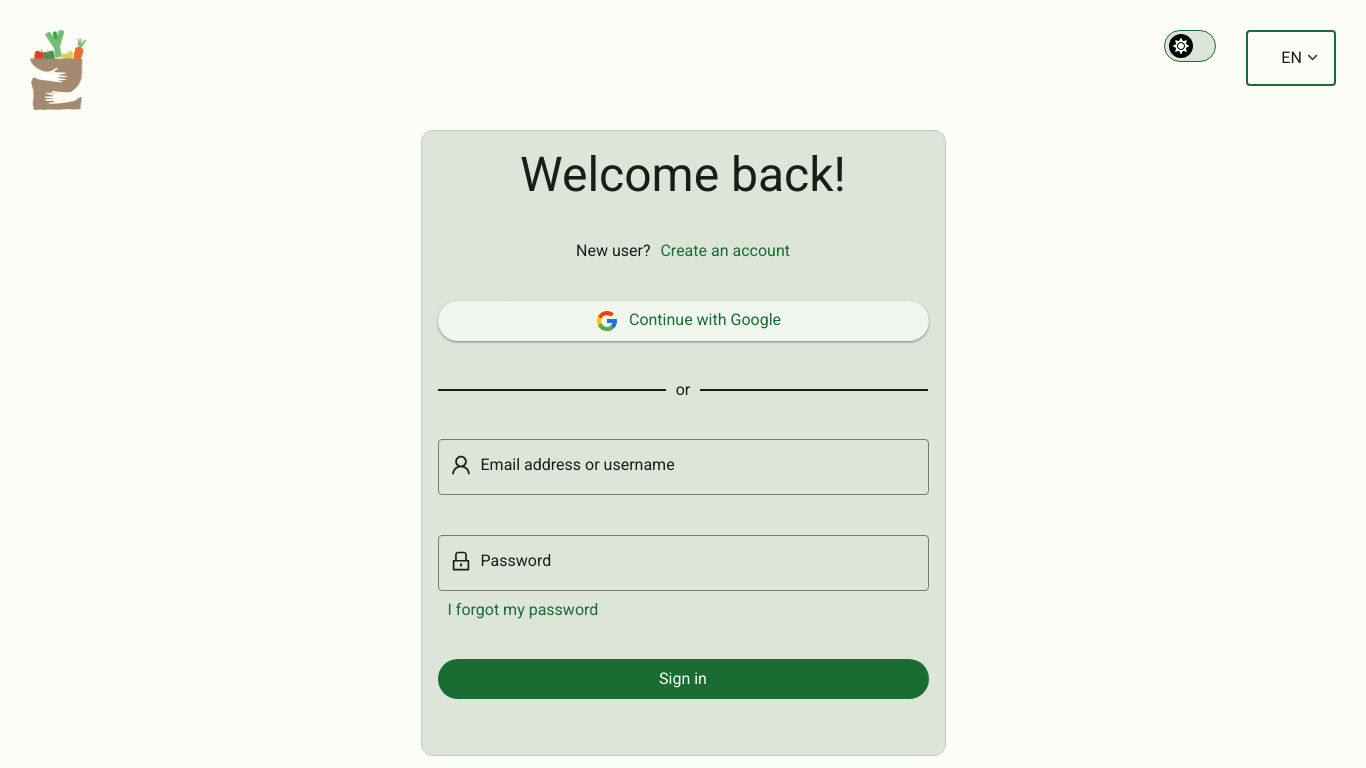
Test case: warns the user of invalid input
expect the text "New user?" is shown: met, box [576, 242, 650, 261]
Type "testWrongEmail" into the 1st field with test id "input" at (700, 467), box [472, 440, 928, 494]
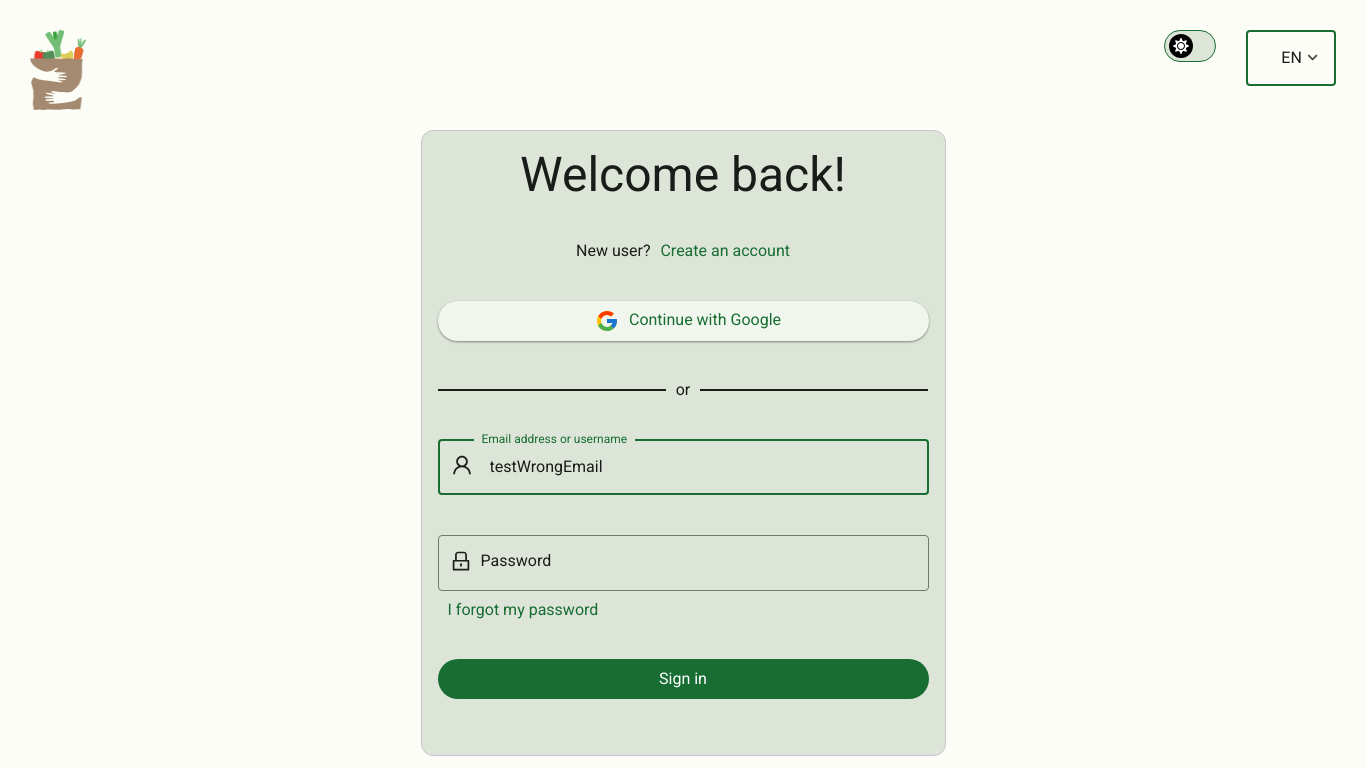
Type "testWrongPassword" into the 2nd password field with test id "input" at (700, 563), box [472, 536, 928, 590]
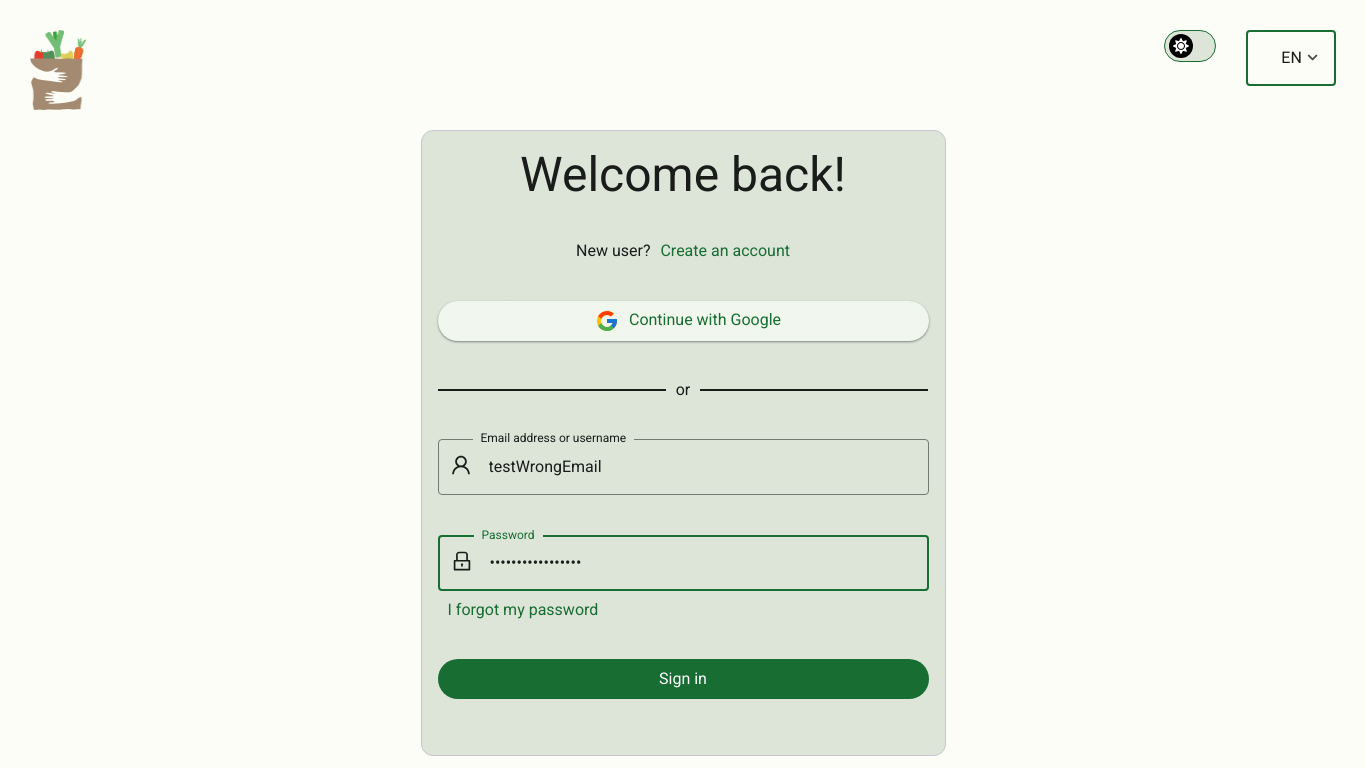
Click the button "Sign in" at (683, 679), box [438, 659, 928, 699]
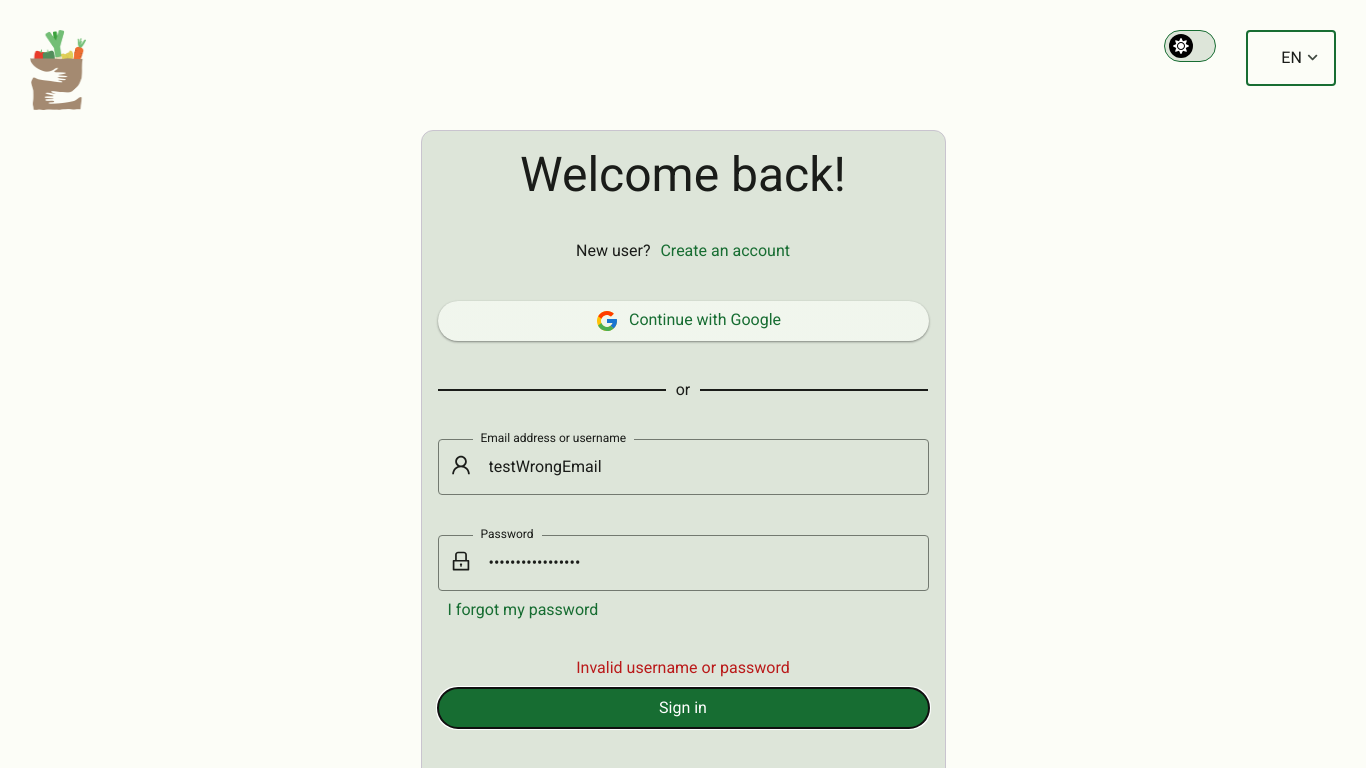
expect the text "Invalid username or password" is shown: met, box [576, 658, 790, 677]
